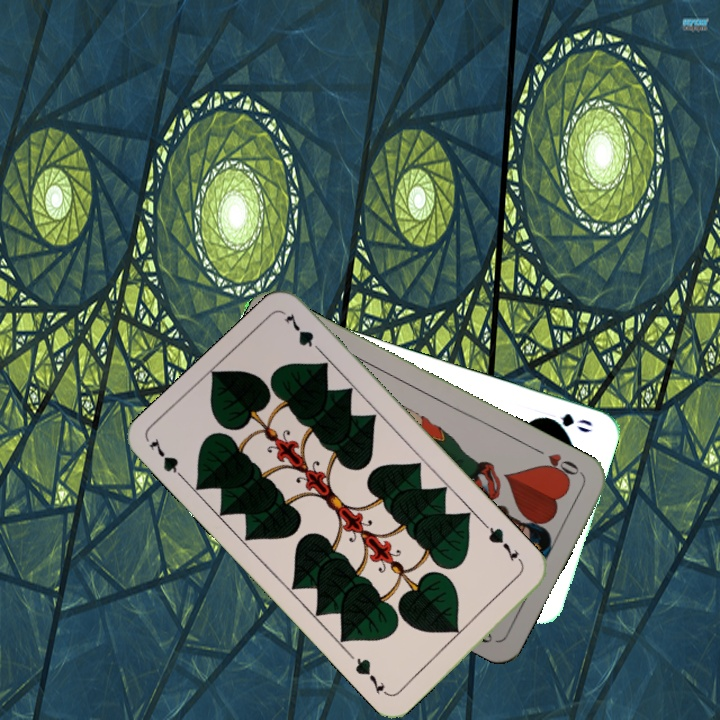G7: (145, 434, 191, 486), (481, 521, 526, 569)
GO: (536, 409, 595, 435)
HO: (529, 443, 584, 483)
